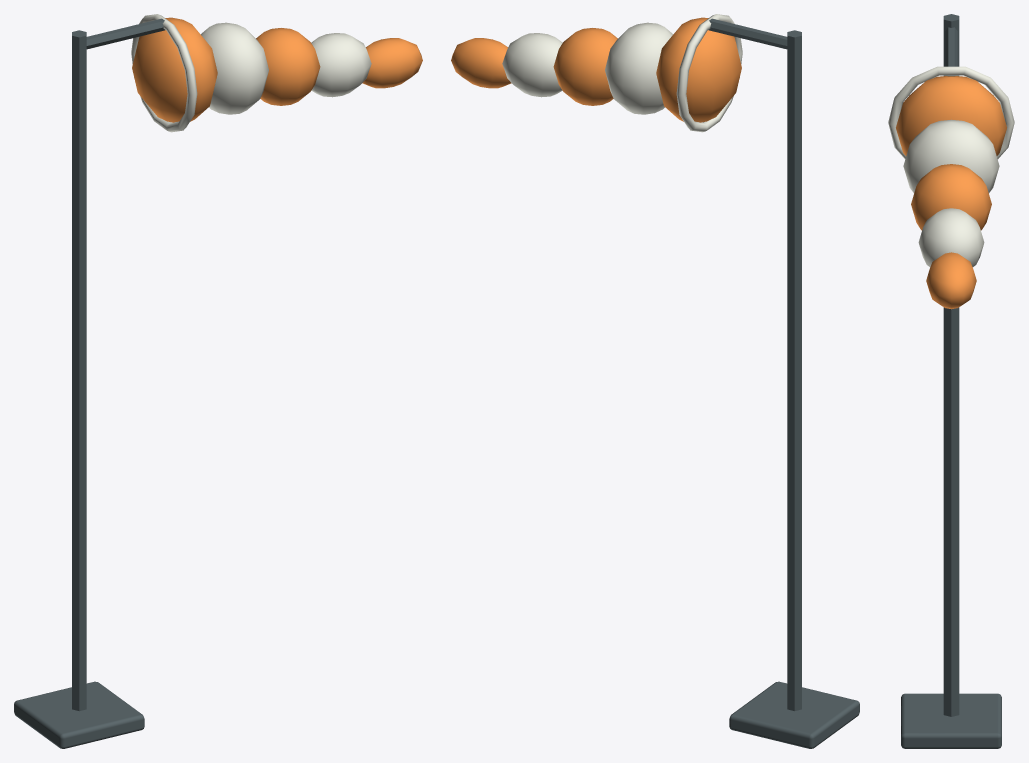
File: castaway-island-escape-wind-sock-frame-825a225f__28070.glb
3 views of the same model, side by side, from view 1: azimuth 30°, elevation 25°; view 2: azimuth 150°, elevation 25°; view 3: azimuth 270°, elevation 25° (orthographic). The views are drawn at different scales.
Parts seen in each view (by area): view 1: wind-sock-frame-iron, wind-sock-frame-orange, wind-sock-frame-ivory; view 2: wind-sock-frame-iron, wind-sock-frame-orange, wind-sock-frame-ivory; view 3: wind-sock-frame-iron, wind-sock-frame-orange, wind-sock-frame-ivory.
Boxes of the visible parts, box(x1,y1,x2,y2) form: wind-sock-frame-iron: box(14, 18, 164, 748); wind-sock-frame-orange: box(132, 17, 422, 122); wind-sock-frame-ivory: box(131, 14, 371, 132); wind-sock-frame-iron: box(709, 18, 859, 748); wind-sock-frame-orange: box(451, 17, 741, 122); wind-sock-frame-ivory: box(502, 14, 742, 132); wind-sock-frame-iron: box(901, 14, 1001, 748); wind-sock-frame-orange: box(896, 76, 1006, 309); wind-sock-frame-ivory: box(888, 66, 1014, 266).
Bounding box in the file's own units: 1.81 × 3.1 × 0.5001.
